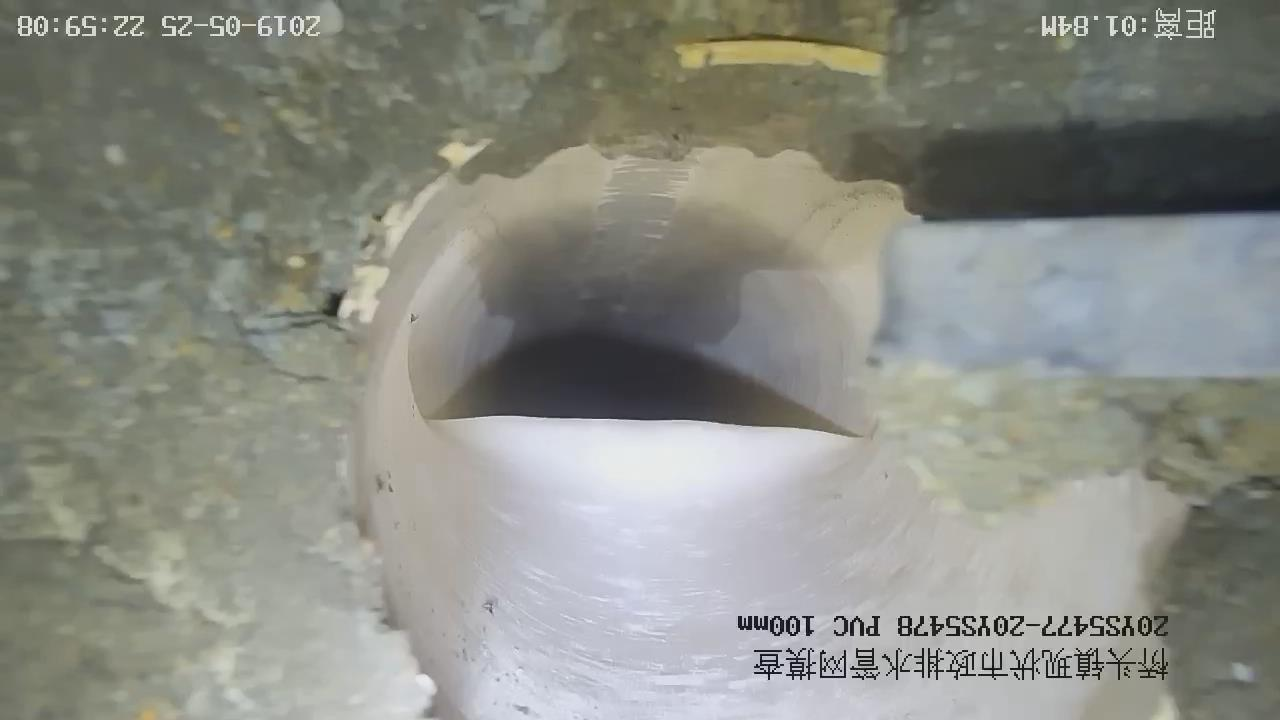BX: (382, 248, 878, 532)
